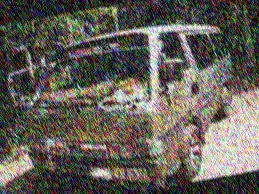van: (12, 16, 252, 194)
